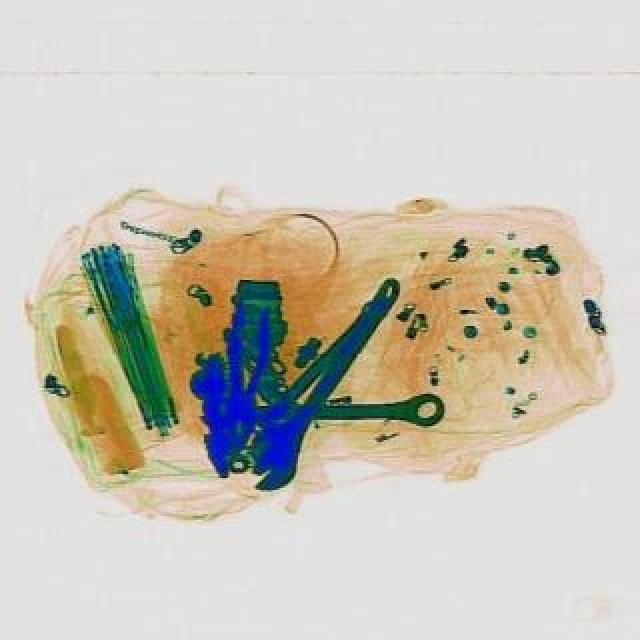scissors: (228, 268, 416, 500)
wrench: (214, 304, 276, 440)
